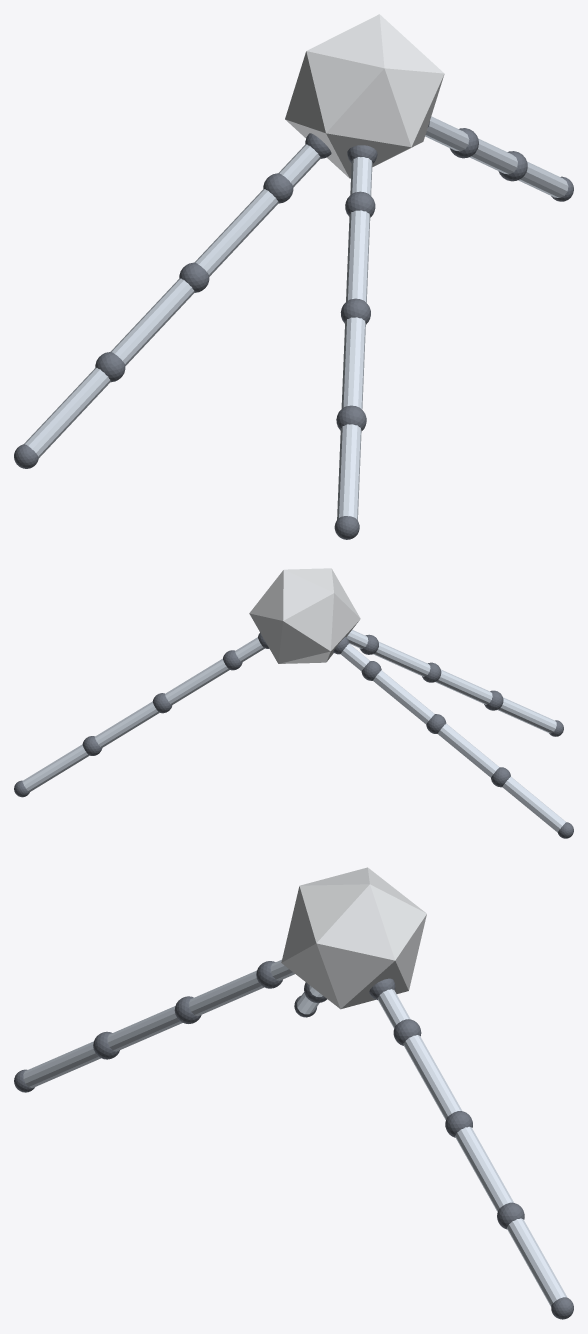
The model's file is tripod_abs.glb.
The picture shows the model from 3 angles, top to bottom: view 1: azimuth 30°, elevation 25°; view 2: azimuth 150°, elevation 25°; view 3: azimuth 270°, elevation 25°; orthographic projection. The views are drawn at different scales.
Parts seen in each view (by area): view 1: geom_0, geom_17, geom_15, geom_13, geom_26, geom_22, geom_24, geom_8, geom_6, geom_4, geom_11, geom_20; view 2: geom_0, geom_17, geom_8, geom_15, geom_13, geom_4, geom_6, geom_26, geom_22, geom_24, geom_11, geom_2; view 3: geom_0, geom_8, geom_4, geom_6, geom_26, geom_22, geom_24, geom_2.
Boxes of the visible parts, x1=… form: geom_0: x1=285, y1=14, x2=444, y2=178; geom_17: x1=24, y1=367, x2=110, y2=457; geom_15: x1=110, y1=278, x2=194, y2=365; geom_13: x1=194, y1=189, x2=278, y2=276; geom_26: x1=337, y1=424, x2=361, y2=520; geom_22: x1=346, y1=210, x2=370, y2=302; geom_24: x1=341, y1=317, x2=365, y2=409; geom_8: x1=518, y1=161, x2=568, y2=197; geom_6: x1=469, y1=138, x2=517, y2=174; geom_4: x1=425, y1=116, x2=469, y2=151; geom_11: x1=278, y1=144, x2=320, y2=187; geom_20: x1=350, y1=157, x2=372, y2=195; geom_0: x1=249, y1=568, x2=360, y2=663; geom_17: x1=502, y1=776, x2=565, y2=832; geom_8: x1=22, y1=744, x2=89, y2=792; geom_15: x1=437, y1=723, x2=499, y2=777; geom_13: x1=373, y1=670, x2=434, y2=724; geom_4: x1=165, y1=658, x2=229, y2=704; geom_6: x1=95, y1=701, x2=159, y2=747; geom_26: x1=497, y1=697, x2=556, y2=733; geom_22: x1=373, y1=642, x2=430, y2=676; geom_24: x1=435, y1=669, x2=492, y2=704; geom_11: x1=340, y1=644, x2=369, y2=671; geom_2: x1=235, y1=637, x2=264, y2=662; geom_0: x1=281, y1=867, x2=426, y2=1009; geom_8: x1=507, y1=1218, x2=567, y2=1306; geom_4: x1=403, y1=1035, x2=462, y2=1119; geom_6: x1=455, y1=1126, x2=513, y2=1211; geom_26: x1=23, y1=1041, x2=100, y2=1088; geom_22: x1=189, y1=970, x2=263, y2=1016; geom_24: x1=107, y1=1006, x2=182, y2=1051; geom_2: x1=377, y1=989, x2=410, y2=1028.
Bounding box in the file's own units: 0.767 × 0.3508 × 0.5823.
